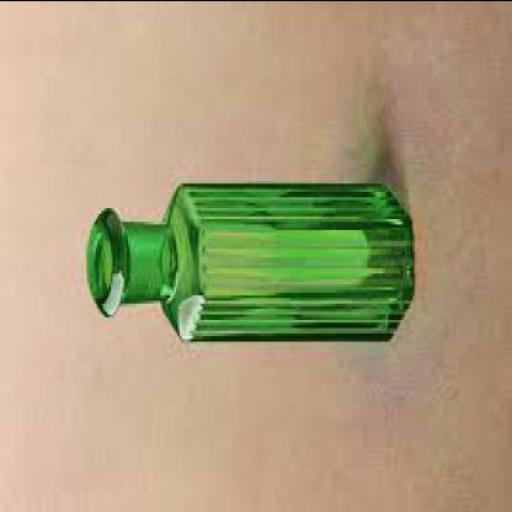glass: (84, 185, 413, 343)
